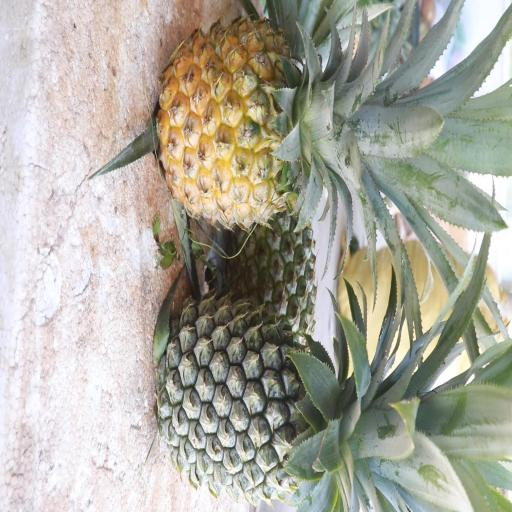Pineapple - v8 v1: (151, 8, 433, 240)
